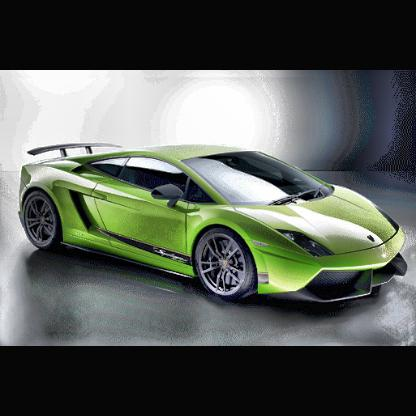Lamborghini Gallardo LP 570-4 Superleggera 2012: (19, 143, 409, 304)
